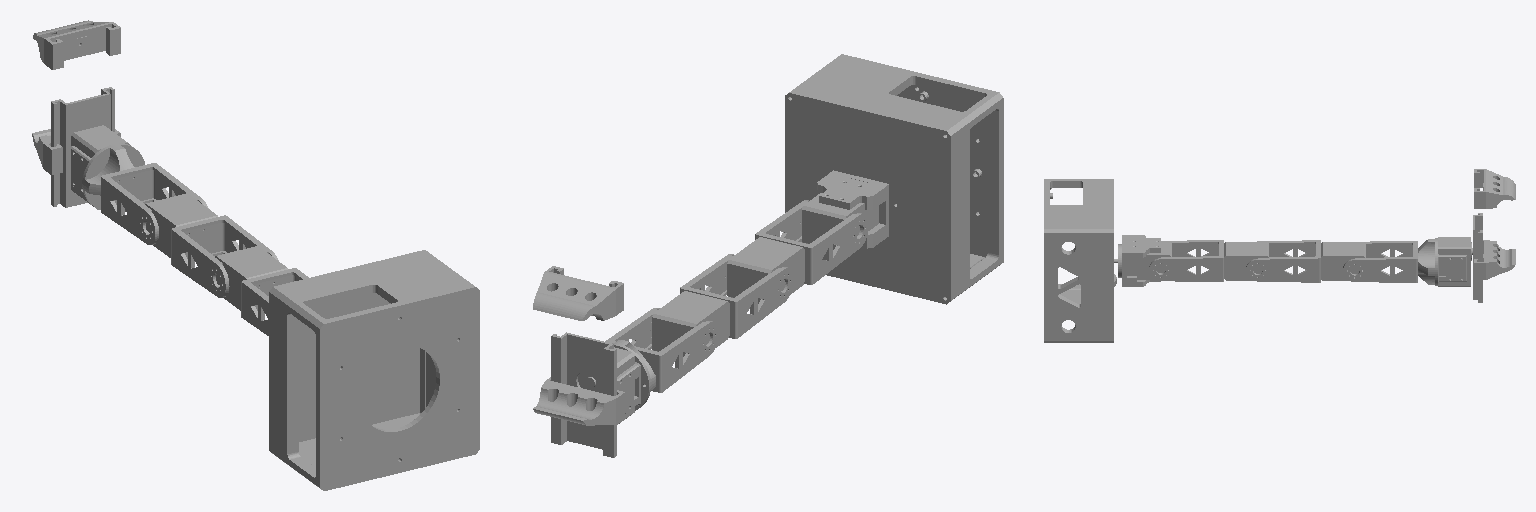
robot.urdf — perseus:
<?xml version="1.0" ?>
<!-- =================================================================================== -->
<!-- |    This document was autogenerated by xacro from perseus.xacro                  | -->
<!-- |    EDITING THIS FILE BY HAND IS NOT RECOMMENDED                                 | -->
<!-- =================================================================================== -->
<robot name="perseus">
  <material name="silver">
    <color rgba="0.700 0.700 0.700 1.000"/>
  </material>
  <transmission name="Rev3_tran">
    <type>transmission_interface/SimpleTransmission</type>
    <joint name="Rev3">
      <hardwareInterface>hardware_interface/EffortJointInterface</hardwareInterface>
    </joint>
    <actuator name="Rev3_actr">
      <hardwareInterface>hardware_interface/EffortJointInterface</hardwareInterface>
      <mechanicalReduction>1</mechanicalReduction>
    </actuator>
  </transmission>
  <transmission name="Rev5_tran">
    <type>transmission_interface/SimpleTransmission</type>
    <joint name="Rev5">
      <hardwareInterface>hardware_interface/EffortJointInterface</hardwareInterface>
    </joint>
    <actuator name="Rev5_actr">
      <hardwareInterface>hardware_interface/EffortJointInterface</hardwareInterface>
      <mechanicalReduction>1</mechanicalReduction>
    </actuator>
  </transmission>
  <transmission name="Rev7_tran">
    <type>transmission_interface/SimpleTransmission</type>
    <joint name="Rev7">
      <hardwareInterface>hardware_interface/EffortJointInterface</hardwareInterface>
    </joint>
    <actuator name="Rev7_actr">
      <hardwareInterface>hardware_interface/EffortJointInterface</hardwareInterface>
      <mechanicalReduction>1</mechanicalReduction>
    </actuator>
  </transmission>
  <transmission name="Rev9_tran">
    <type>transmission_interface/SimpleTransmission</type>
    <joint name="Rev9">
      <hardwareInterface>hardware_interface/EffortJointInterface</hardwareInterface>
    </joint>
    <actuator name="Rev9_actr">
      <hardwareInterface>hardware_interface/EffortJointInterface</hardwareInterface>
      <mechanicalReduction>1</mechanicalReduction>
    </actuator>
  </transmission>
  <transmission name="Slider16_tran">
    <type>transmission_interface/SimpleTransmission</type>
    <joint name="Slider16">
      <hardwareInterface>hardware_interface/EffortJointInterface</hardwareInterface>
    </joint>
    <actuator name="Slider16_actr">
      <hardwareInterface>hardware_interface/EffortJointInterface</hardwareInterface>
      <mechanicalReduction>1</mechanicalReduction>
    </actuator>
  </transmission>
  <transmission name="Slider17_tran">
    <type>transmission_interface/SimpleTransmission</type>
    <joint name="Slider17">
      <hardwareInterface>hardware_interface/EffortJointInterface</hardwareInterface>
    </joint>
    <actuator name="Slider17_actr">
      <hardwareInterface>hardware_interface/EffortJointInterface</hardwareInterface>
      <mechanicalReduction>1</mechanicalReduction>
    </actuator>
  </transmission>
  <gazebo>
    <plugin filename="libgazebo_ros_control.so" name="control"/>
  </gazebo>
  <gazebo reference="base_link">
    <material>Gazebo/Silver</material>
    <mu1>0.2</mu1>
    <mu2>0.2</mu2>
    <selfCollide>true</selfCollide>
    <gravity>true</gravity>
  </gazebo>
  <gazebo reference="basePlate_v18_1">
    <material>Gazebo/Silver</material>
    <mu1>0.2</mu1>
    <mu2>0.2</mu2>
    <selfCollide>true</selfCollide>
  </gazebo>
  <gazebo reference="Stepper_v5_1">
    <material>Gazebo/Silver</material>
    <mu1>0.2</mu1>
    <mu2>0.2</mu2>
    <selfCollide>true</selfCollide>
  </gazebo>
  <gazebo reference="link1_v12_1">
    <material>Gazebo/Silver</material>
    <mu1>0.2</mu1>
    <mu2>0.2</mu2>
    <selfCollide>true</selfCollide>
  </gazebo>
  <gazebo reference="Dynamixel_1_1">
    <material>Gazebo/Silver</material>
    <mu1>0.2</mu1>
    <mu2>0.2</mu2>
    <selfCollide>true</selfCollide>
  </gazebo>
  <gazebo reference="Link_v5_1">
    <material>Gazebo/Silver</material>
    <mu1>0.2</mu1>
    <mu2>0.2</mu2>
    <selfCollide>true</selfCollide>
  </gazebo>
  <gazebo reference="Dynamixel_2_1">
    <material>Gazebo/Silver</material>
    <mu1>0.2</mu1>
    <mu2>0.2</mu2>
    <selfCollide>true</selfCollide>
  </gazebo>
  <gazebo reference="Link_v5__1__1">
    <material>Gazebo/Silver</material>
    <mu1>0.2</mu1>
    <mu2>0.2</mu2>
    <selfCollide>true</selfCollide>
  </gazebo>
  <gazebo reference="Dynamixel_3_1">
    <material>Gazebo/Silver</material>
    <mu1>0.2</mu1>
    <mu2>0.2</mu2>
    <selfCollide>true</selfCollide>
  </gazebo>
  <gazebo reference="Link_v5__2__1">
    <material>Gazebo/Silver</material>
    <mu1>0.2</mu1>
    <mu2>0.2</mu2>
    <selfCollide>true</selfCollide>
  </gazebo>
  <gazebo reference="gripL2_v14_1">
    <material>Gazebo/Silver</material>
    <mu1>0.2</mu1>
    <mu2>0.2</mu2>
    <selfCollide>true</selfCollide>
  </gazebo>
  <gazebo reference="gripL1_v7_1">
    <material>Gazebo/Silver</material>
    <mu1>0.2</mu1>
    <mu2>0.2</mu2>
    <selfCollide>true</selfCollide>
  </gazebo>
  <gazebo reference="ModifiedDynamixel_v12_1">
    <material>Gazebo/Silver</material>
    <mu1>0.2</mu1>
    <mu2>0.2</mu2>
    <selfCollide>true</selfCollide>
  </gazebo>
  <gazebo reference="EETrack_rebuild_v6_1">
    <material>Gazebo/Silver</material>
    <mu1>0.2</mu1>
    <mu2>0.2</mu2>
    <selfCollide>true</selfCollide>
  </gazebo>
  <gazebo reference="Grip_v5_1">
    <material>Gazebo/Silver</material>
    <mu1>0.2</mu1>
    <mu2>0.2</mu2>
    <selfCollide>true</selfCollide>
  </gazebo>
  <gazebo reference="Grip_v5__1__1">
    <material>Gazebo/Silver</material>
    <mu1>0.2</mu1>
    <mu2>0.2</mu2>
    <selfCollide>true</selfCollide>
  </gazebo>
  <link name="base_link">
    <inertial>
      <origin rpy="0 0 0" xyz="0.009606900148155705 0.025047580656759237 0.0006409385755152207"/>
      <mass value="0.20859614956718134"/>
      <inertia ixx="0.000557" ixy="-1e-06" ixz="-4.8e-05" iyy="0.000924" iyz="-3e-06" izz="0.000556"/>
    </inertial>
    <visual>
      <origin rpy="0 0 0" xyz="0 0 0"/>
      <geometry>
        <mesh filename="package://perseus_description/meshes/base_link.stl" scale="0.001 0.001 0.001"/>
      </geometry>
      <material name="silver"/>
    </visual>
    <collision>
      <origin rpy="0 0 0" xyz="0 0 0"/>
      <geometry>
        <mesh filename="package://perseus_description/meshes/base_link.stl" scale="0.001 0.001 0.001"/>
      </geometry>
    </collision>
  </link>
  <link name="basePlate_v18_1">
    <inertial>
      <origin rpy="0 0 0" xyz="0.06080674862882992 0.007989157863473588 0.060697501122834334"/>
      <mass value="0.10739714114224669"/>
      <inertia ixx="0.000185" ixy="0.0" ixz="-0.0" iyy="0.00038" iyz="0.0" izz="0.000198"/>
    </inertial>
    <visual>
      <origin rpy="0 0 0" xyz="0.060705 -0.060123 0.060773"/>
      <geometry>
        <mesh filename="package://perseus_description/meshes/basePlate_v18_1.stl" scale="0.001 0.001 0.001"/>
      </geometry>
      <material name="silver"/>
    </visual>
    <collision>
      <origin rpy="0 0 0" xyz="0.060705 -0.060123 0.060773"/>
      <geometry>
        <mesh filename="package://perseus_description/meshes/basePlate_v18_1.stl" scale="0.001 0.001 0.001"/>
      </geometry>
    </collision>
  </link>
  <link name="Stepper_v5_1">
    <inertial>
      <origin rpy="0 0 0" xyz="5.218509840461329e-08 -0.009658638044550236 3.7698044210816435e-07"/>
      <mass value="0.164439959012558"/>
      <inertia ixx="1.9e-05" ixy="-0.0" ixz="-0.0" iyy="2.7e-05" iyz="0.0" izz="2e-05"/>
    </inertial>
    <visual>
      <origin rpy="0 0 0" xyz="-0.000104 -0.067623 2.3e-05"/>
      <geometry>
        <mesh filename="package://perseus_description/meshes/Stepper_v5_1.stl" scale="0.001 0.001 0.001"/>
      </geometry>
      <material name="silver"/>
    </visual>
    <collision>
      <origin rpy="0 0 0" xyz="-0.000104 -0.067623 2.3e-05"/>
      <geometry>
        <mesh filename="package://perseus_description/meshes/Stepper_v5_1.stl" scale="0.001 0.001 0.001"/>
      </geometry>
    </collision>
  </link>
  <link name="link1_v12_1">
    <inertial>
      <origin rpy="0 0 0" xyz="-0.0005835884695255211 0.011699826982647002 2.0584927118683997e-05"/>
      <mass value="0.026558895460486103"/>
      <inertia ixx="9e-06" ixy="0.0" ixz="-0.0" iyy="1e-05" iyz="0.0" izz="8e-06"/>
    </inertial>
    <visual>
      <origin rpy="0 0 0" xyz="-0.000104 -0.080623 2.3e-05"/>
      <geometry>
        <mesh filename="package://perseus_description/meshes/link1_v12_1.stl" scale="0.001 0.001 0.001"/>
      </geometry>
      <material name="silver"/>
    </visual>
    <collision>
      <origin rpy="0 0 0" xyz="-0.000104 -0.080623 2.3e-05"/>
      <geometry>
        <mesh filename="package://perseus_description/meshes/link1_v12_1.stl" scale="0.001 0.001 0.001"/>
      </geometry>
    </collision>
  </link>
  <link name="Dynamixel_1_1">
    <inertial>
      <origin rpy="0 0 0" xyz="-3.990798697923084e-05 0.023425508667773945 3.9032703642453347e-07"/>
      <mass value="0.356701544919362"/>
      <inertia ixx="8.7e-05" ixy="0.0" ixz="0.0" iyy="5.9e-05" iyz="-0.0" izz="9.9e-05"/>
    </inertial>
    <visual>
      <origin rpy="0 0 0" xyz="-0.000104 -0.085773 2.3e-05"/>
      <geometry>
        <mesh filename="package://perseus_description/meshes/Dynamixel_1_1.stl" scale="0.001 0.001 0.001"/>
      </geometry>
      <material name="silver"/>
    </visual>
    <collision>
      <origin rpy="0 0 0" xyz="-0.000104 -0.085773 2.3e-05"/>
      <geometry>
        <mesh filename="package://perseus_description/meshes/Dynamixel_1_1.stl" scale="0.001 0.001 0.001"/>
      </geometry>
    </collision>
  </link>
  <link name="Link_v5_1">
    <inertial>
      <origin rpy="0 0 0" xyz="0.019404821558247024 0.037443419960172294 3.83299057001476e-07"/>
      <mass value="0.01662330410690611"/>
      <inertia ixx="1e-05" ixy="-0.0" ixz="0.0" iyy="7e-06" iyz="-0.0" izz="1.5e-05"/>
    </inertial>
    <visual>
      <origin rpy="0 0 0" xyz="0.018896 -0.121024 2.2e-05"/>
      <geometry>
        <mesh filename="package://perseus_description/meshes/Link_v5_1.stl" scale="0.001 0.001 0.001"/>
      </geometry>
      <material name="silver"/>
    </visual>
    <collision>
      <origin rpy="0 0 0" xyz="0.018896 -0.121024 2.2e-05"/>
      <geometry>
        <mesh filename="package://perseus_description/meshes/Link_v5_1.stl" scale="0.001 0.001 0.001"/>
      </geometry>
    </collision>
  </link>
  <link name="Dynamixel_2_1">
    <inertial>
      <origin rpy="0 0 0" xyz="-3.9907986979175033e-05 0.023425071019905652 3.055729170690188e-07"/>
      <mass value="0.356701544919362"/>
      <inertia ixx="8.7e-05" ixy="0.0" ixz="0.0" iyy="5.9e-05" iyz="-0.0" izz="9.9e-05"/>
    </inertial>
    <visual>
      <origin rpy="0 0 0" xyz="-0.000504 -0.186324 2.2e-05"/>
      <geometry>
        <mesh filename="package://perseus_description/meshes/Dynamixel_2_1.stl" scale="0.001 0.001 0.001"/>
      </geometry>
      <material name="silver"/>
    </visual>
    <collision>
      <origin rpy="0 0 0" xyz="-0.000504 -0.186324 2.2e-05"/>
      <geometry>
        <mesh filename="package://perseus_description/meshes/Dynamixel_2_1.stl" scale="0.001 0.001 0.001"/>
      </geometry>
    </collision>
  </link>
  <link name="Link_v5__1__1">
    <inertial>
      <origin rpy="0 0 0" xyz="0.02095482155824711 0.037442982312304 2.985449376563934e-07"/>
      <mass value="0.01662330410690611"/>
      <inertia ixx="1e-05" ixy="-0.0" ixz="0.0" iyy="7e-06" iyz="-0.0" izz="1.5e-05"/>
    </inertial>
    <visual>
      <origin rpy="0 0 0" xyz="0.019496 -0.221575 2.1e-05"/>
      <geometry>
        <mesh filename="package://perseus_description/meshes/Link_v5__1__1.stl" scale="0.001 0.001 0.001"/>
      </geometry>
      <material name="silver"/>
    </visual>
    <collision>
      <origin rpy="0 0 0" xyz="0.019496 -0.221575 2.1e-05"/>
      <geometry>
        <mesh filename="package://perseus_description/meshes/Link_v5__1__1.stl" scale="0.001 0.001 0.001"/>
      </geometry>
    </collision>
  </link>
  <link name="Dynamixel_3_1">
    <inertial>
      <origin rpy="0 0 0" xyz="-3.990798697908857e-05 0.023424633372037318 2.208187977353406e-07"/>
      <mass value="0.356701544919362"/>
      <inertia ixx="8.7e-05" ixy="0.0" ixz="0.0" iyy="5.9e-05" iyz="-0.0" izz="9.9e-05"/>
    </inertial>
    <visual>
      <origin rpy="0 0 0" xyz="-0.001454 -0.286875 2.1e-05"/>
      <geometry>
        <mesh filename="package://perseus_description/meshes/Dynamixel_3_1.stl" scale="0.001 0.001 0.001"/>
      </geometry>
      <material name="silver"/>
    </visual>
    <collision>
      <origin rpy="0 0 0" xyz="-0.001454 -0.286875 2.1e-05"/>
      <geometry>
        <mesh filename="package://perseus_description/meshes/Dynamixel_3_1.stl" scale="0.001 0.001 0.001"/>
      </geometry>
    </collision>
  </link>
  <link name="Link_v5__2__1">
    <inertial>
      <origin rpy="0 0 0" xyz="0.02095482155824717 0.037443544664435724 2.1379081833307952e-07"/>
      <mass value="0.01662330410690611"/>
      <inertia ixx="1e-05" ixy="-0.0" ixz="0.0" iyy="7e-06" iyz="-0.0" izz="1.5e-05"/>
    </inertial>
    <visual>
      <origin rpy="0 0 0" xyz="0.018546 -0.322125 2e-05"/>
      <geometry>
        <mesh filename="package://perseus_description/meshes/Link_v5__2__1.stl" scale="0.001 0.001 0.001"/>
      </geometry>
      <material name="silver"/>
    </visual>
    <collision>
      <origin rpy="0 0 0" xyz="0.018546 -0.322125 2e-05"/>
      <geometry>
        <mesh filename="package://perseus_description/meshes/Link_v5__2__1.stl" scale="0.001 0.001 0.001"/>
      </geometry>
    </collision>
  </link>
  <link name="gripL2_v14_1">
    <inertial>
      <origin rpy="0 0 0" xyz="5.2185256943851344e-08 0.009822354343600626 1.2271808408696706e-07"/>
      <mass value="0.013959782041853887"/>
      <inertia ixx="2e-06" ixy="0.0" ixz="-0.0" iyy="3e-06" iyz="0.0" izz="2e-06"/>
    </inertial>
    <visual>
      <origin rpy="0 0 0" xyz="-0.002404 -0.387425 2e-05"/>
      <geometry>
        <mesh filename="package://perseus_description/meshes/gripL2_v14_1.stl" scale="0.001 0.001 0.001"/>
      </geometry>
      <material name="silver"/>
    </visual>
    <collision>
      <origin rpy="0 0 0" xyz="-0.002404 -0.387425 2e-05"/>
      <geometry>
        <mesh filename="package://perseus_description/meshes/gripL2_v14_1.stl" scale="0.001 0.001 0.001"/>
      </geometry>
    </collision>
  </link>
  <link name="gripL1_v7_1">
    <inertial>
      <origin rpy="0 0 0" xyz="5.2185103533147065e-08 0.009633445542812646 9.474598607199126e-05"/>
      <mass value="0.011468373721129618"/>
      <inertia ixx="3e-06" ixy="0.0" ixz="0.0" iyy="4e-06" iyz="0.0" izz="4e-06"/>
    </inertial>
    <visual>
      <origin rpy="0 0 0" xyz="-0.002404 -0.405425 2e-05"/>
      <geometry>
        <mesh filename="package://perseus_description/meshes/gripL1_v7_1.stl" scale="0.001 0.001 0.001"/>
      </geometry>
      <material name="silver"/>
    </visual>
    <collision>
      <origin rpy="0 0 0" xyz="-0.002404 -0.405425 2e-05"/>
      <geometry>
        <mesh filename="package://perseus_description/meshes/gripL1_v7_1.stl" scale="0.001 0.001 0.001"/>
      </geometry>
    </collision>
  </link>
  <link name="ModifiedDynamixel_v12_1">
    <inertial>
      <origin rpy="0 0 0" xyz="3.8838509168730856e-08 0.01704002455162823 0.00017511907776649003"/>
      <mass value="0.35670154491936157"/>
      <inertia ixx="9.9e-05" ixy="0.0" ixz="0.0" iyy="8.7e-05" iyz="-0.0" izz="5.9e-05"/>
    </inertial>
    <visual>
      <origin rpy="0 0 0" xyz="-0.002404 -0.408425 2e-05"/>
      <geometry>
        <mesh filename="package://perseus_description/meshes/ModifiedDynamixel_v12_1.stl" scale="0.001 0.001 0.001"/>
      </geometry>
      <material name="silver"/>
    </visual>
    <collision>
      <origin rpy="0 0 0" xyz="-0.002404 -0.408425 2e-05"/>
      <geometry>
        <mesh filename="package://perseus_description/meshes/ModifiedDynamixel_v12_1.stl" scale="0.001 0.001 0.001"/>
      </geometry>
    </collision>
  </link>
  <link name="EETrack_rebuild_v6_1">
    <inertial>
      <origin rpy="0 0 0" xyz="0.0005882832570395739 0.0030255190907269025 -0.007437121872838118"/>
      <mass value="0.01274507441724117"/>
      <inertia ixx="7e-06" ixy="0.0" ixz="-0.0" iyy="1e-05" iyz="-0.0" izz="3e-06"/>
    </inertial>
    <visual>
      <origin rpy="0 0 0" xyz="-0.002403 -0.445425 -0.011981"/>
      <geometry>
        <mesh filename="package://perseus_description/meshes/EETrack_rebuild_v6_1.stl" scale="0.001 0.001 0.001"/>
      </geometry>
      <material name="silver"/>
    </visual>
    <collision>
      <origin rpy="0 0 0" xyz="-0.002403 -0.445425 -0.011981"/>
      <geometry>
        <mesh filename="package://perseus_description/meshes/EETrack_rebuild_v6_1.stl" scale="0.001 0.001 0.001"/>
      </geometry>
    </collision>
  </link>
  <link name="Grip_v5_1">
    <inertial>
      <origin rpy="0 0 0" xyz="1.3652826758372982e-07 0.013322586240661238 -0.009633875691665562"/>
      <mass value="0.019987551824594305"/>
      <inertia ixx="2e-06" ixy="-0.0" ixz="-0.0" iyy="6e-06" iyz="-0.0" izz="7e-06"/>
    </inertial>
    <visual>
      <origin rpy="0 0 0" xyz="-0.002403 -0.450625 -0.011981"/>
      <geometry>
        <mesh filename="package://perseus_description/meshes/Grip_v5_1.stl" scale="0.001 0.001 0.001"/>
      </geometry>
      <material name="silver"/>
    </visual>
    <collision>
      <origin rpy="0 0 0" xyz="-0.002403 -0.450625 -0.011981"/>
      <geometry>
        <mesh filename="package://perseus_description/meshes/Grip_v5_1.stl" scale="0.001 0.001 0.001"/>
      </geometry>
    </collision>
  </link>
  <link name="Grip_v5__1__1">
    <inertial>
      <origin rpy="0 0 0" xyz="-0.03439086293294389 -0.4309024137593389 0.05460097586221573"/>
      <mass value="0.019987551824594305"/>
      <inertia ixx="2e-06" ixy="0.0" ixz="-0.0" iyy="6e-06" iyz="0.0" izz="7e-06"/>
    </inertial>
    <visual>
      <origin rpy="0 0 0" xyz="-0.037423 -0.89485 0.031987"/>
      <geometry>
        <mesh filename="package://perseus_description/meshes/Grip_v5__1__1.stl" scale="0.001 0.001 0.001"/>
      </geometry>
      <material name="silver"/>
    </visual>
    <collision>
      <origin rpy="0 0 0" xyz="-0.037423 -0.89485 0.031987"/>
      <geometry>
        <mesh filename="package://perseus_description/meshes/Grip_v5__1__1.stl" scale="0.001 0.001 0.001"/>
      </geometry>
    </collision>
  </link>
  <joint name="Rigid1" type="fixed">
    <origin rpy="0 0 0" xyz="-0.060705 0.060123 -0.060773"/>
    <parent link="base_link"/>
    <child link="basePlate_v18_1"/>
  </joint>
  <joint name="Rigid2" type="fixed">
    <origin rpy="0 0 0" xyz="0.060809 0.0075 0.06075"/>
    <parent link="basePlate_v18_1"/>
    <child link="Stepper_v5_1"/>
  </joint>
  <joint name="Rev3" type="revolute">
    <origin rpy="0 0 0" xyz="0.0 0.013 0.0"/>
    <parent link="Stepper_v5_1"/>
    <child link="link1_v12_1"/>
    <axis xyz="-0.0 1.0 0.0"/>
    <limit effort="100" lower="0.0" upper="6.108652" velocity="100"/>
  </joint>
  <joint name="Rigid4" type="fixed">
    <origin rpy="0 0 0" xyz="0.0 0.00515 0.0"/>
    <parent link="link1_v12_1"/>
    <child link="Dynamixel_1_1"/>
  </joint>
  <joint name="Rev5" type="revolute">
    <origin rpy="0 0 0" xyz="-0.019 0.035251 1e-06"/>
    <parent link="Dynamixel_1_1"/>
    <child link="Link_v5_1"/>
    <axis xyz="-1.0 -0.0 0.0"/>
    <limit effort="100" lower="-1.570796" upper="1.570796" velocity="100"/>
  </joint>
  <joint name="Rigid6" type="fixed">
    <origin rpy="0 0 0" xyz="0.0194 0.0653 0.0"/>
    <parent link="Link_v5_1"/>
    <child link="Dynamixel_2_1"/>
  </joint>
  <joint name="Rev7" type="continuous">
    <origin rpy="0 0 0" xyz="-0.02 0.035251 1e-06"/>
    <parent link="Dynamixel_2_1"/>
    <child link="Link_v5__1__1"/>
    <axis xyz="-1.0 -0.0 0.0"/>
  </joint>
  <joint name="Rigid8" type="fixed">
    <origin rpy="0 0 0" xyz="0.02095 0.0653 0.0"/>
    <parent link="Link_v5__1__1"/>
    <child link="Dynamixel_3_1"/>
  </joint>
  <joint name="Rev9" type="revolute">
    <origin rpy="0 0 0" xyz="-0.02 0.03525 1e-06"/>
    <parent link="Dynamixel_3_1"/>
    <child link="Link_v5__2__1"/>
    <axis xyz="-1.0 -0.0 0.0"/>
    <limit effort="100" lower="-1.570796" upper="1.570796" velocity="100"/>
  </joint>
  <joint name="Rigid10" type="fixed">
    <origin rpy="0 0 0" xyz="0.02095 0.0653 0.0"/>
    <parent link="Link_v5__2__1"/>
    <child link="gripL2_v14_1"/>
  </joint>
  <joint name="Rigid12" type="fixed">
    <origin rpy="0 0 0" xyz="0.0 0.018 0.0"/>
    <parent link="gripL2_v14_1"/>
    <child link="gripL1_v7_1"/>
  </joint>
  <joint name="Rigid13" type="fixed">
    <origin rpy="0 0 0" xyz="0.0 0.003 0.0"/>
    <parent link="gripL1_v7_1"/>
    <child link="ModifiedDynamixel_v12_1"/>
  </joint>
  <joint name="Rigid14" type="fixed">
    <origin rpy="0 0 0" xyz="-1e-06 0.037 0.012001"/>
    <parent link="ModifiedDynamixel_v12_1"/>
    <child link="EETrack_rebuild_v6_1"/>
  </joint>
  <joint name="Slider16" type="prismatic">
    <origin rpy="0 0 0" xyz="0.0 0.0052 0.0"/>
    <parent link="EETrack_rebuild_v6_1"/>
    <child link="Grip_v5_1"/>
    <axis xyz="0.0 -0.0 1.0"/>
    <limit effort="100" lower="-0.015" upper="0.0" velocity="100"/>
  </joint>
  <joint name="Slider17" type="prismatic">
    <origin rpy="0 0 0" xyz="0.03502 0.449425 -0.043968"/>
    <parent link="EETrack_rebuild_v6_1"/>
    <child link="Grip_v5__1__1"/>
    <axis xyz="0.0 -0.0 1.0"/>
    <limit effort="100" lower="0.053" upper="0.068" velocity="100"/>
  </joint>
</robot>

--- Render facts (derived) ---
The picture shows the robot from 3 angles, left to right: view 1: azimuth 30°, elevation 25°; view 2: azimuth 150°, elevation 25°; view 3: azimuth 270°, elevation 25°; orthographic projection.
Model perseus with 16 links and 15 joints (3 revolute, 1 continuous, 2 prismatic, 9 fixed), rooted at base_link, posed joints at zero except 1 at the middle of their limits (Slider17 = 0.0605).
Visible links, largest first — view 1: base_link, basePlate_v18_1, Link_v5__1__1, Link_v5__2__1, EETrack_rebuild_v6_1, Grip_v5__1__1, Dynamixel_3_1, Dynamixel_2_1, Link_v5_1, gripL1_v7_1, ModifiedDynamixel_v12_1, Grip_v5_1 (+1 smaller); view 2: basePlate_v18_1, base_link, EETrack_rebuild_v6_1, Link_v5__1__1, Link_v5_1, Link_v5__2__1, Grip_v5__1__1, Dynamixel_2_1, Grip_v5_1, Dynamixel_3_1, link1_v12_1, Dynamixel_1_1 (+2 smaller); view 3: base_link, Link_v5__1__1, Link_v5_1, Link_v5__2__1, basePlate_v18_1, Dynamixel_2_1, Dynamixel_3_1, Grip_v5__1__1, link1_v12_1, Grip_v5_1, ModifiedDynamixel_v12_1, gripL1_v7_1 (+3 smaller).
Link boxes in pixels (x1=…): base_link: x1=278, y1=256, x2=479, y2=490; basePlate_v18_1: x1=269, y1=250, x2=432, y2=456; Link_v5__1__1: x1=171, y1=215, x2=278, y2=297; Link_v5__2__1: x1=101, y1=163, x2=208, y2=244; EETrack_rebuild_v6_1: x1=51, y1=87, x2=114, y2=207; Grip_v5__1__1: x1=33, y1=20, x2=120, y2=69; Dynamixel_3_1: x1=145, y1=193, x2=217, y2=257; Dynamixel_2_1: x1=215, y1=246, x2=287, y2=310; Link_v5_1: x1=241, y1=268, x2=308, y2=335; gripL1_v7_1: x1=71, y1=143, x2=144, y2=209; ModifiedDynamixel_v12_1: x1=71, y1=125, x2=130, y2=209; Grip_v5_1: x1=32, y1=129, x2=120, y2=174; basePlate_v18_1: x1=785, y1=86, x2=958, y2=304; base_link: x1=799, y1=54, x2=1003, y2=294; EETrack_rebuild_v6_1: x1=551, y1=332, x2=616, y2=457; Link_v5__1__1: x1=680, y1=254, x2=793, y2=338; Link_v5_1: x1=755, y1=200, x2=868, y2=284; Link_v5__2__1: x1=605, y1=308, x2=718, y2=392; Grip_v5__1__1: x1=533, y1=266, x2=623, y2=320; Dynamixel_2_1: x1=727, y1=237, x2=804, y2=303; Grip_v5_1: x1=533, y1=377, x2=624, y2=425; Dynamixel_3_1: x1=652, y1=291, x2=729, y2=356; link1_v12_1: x1=817, y1=170, x2=888, y2=248; Dynamixel_1_1: x1=802, y1=193, x2=878, y2=249; base_link: x1=1044, y1=179, x2=1101, y2=342; Link_v5__1__1: x1=1246, y1=240, x2=1320, y2=282; Link_v5_1: x1=1149, y1=240, x2=1223, y2=281; Link_v5__2__1: x1=1343, y1=241, x2=1417, y2=282; basePlate_v18_1: x1=1102, y1=179, x2=1116, y2=342; Dynamixel_2_1: x1=1224, y1=242, x2=1268, y2=280; Dynamixel_3_1: x1=1321, y1=242, x2=1365, y2=280; Grip_v5__1__1: x1=1474, y1=169, x2=1515, y2=208; link1_v12_1: x1=1118, y1=235, x2=1160, y2=286; Grip_v5_1: x1=1474, y1=240, x2=1515, y2=279; ModifiedDynamixel_v12_1: x1=1438, y1=237, x2=1472, y2=286; gripL1_v7_1: x1=1435, y1=238, x2=1466, y2=285.
Size in the robot's own frame: 0.13 by 0.4886 by 0.1585 metres.
Meshes: 16 distinct files referenced, 16 mesh visuals loaded (16 binary STL).
